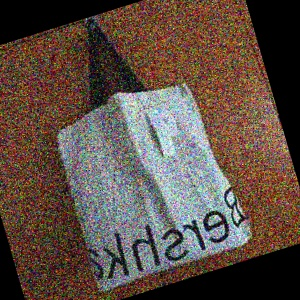bershka: (173, 58, 295, 266)
